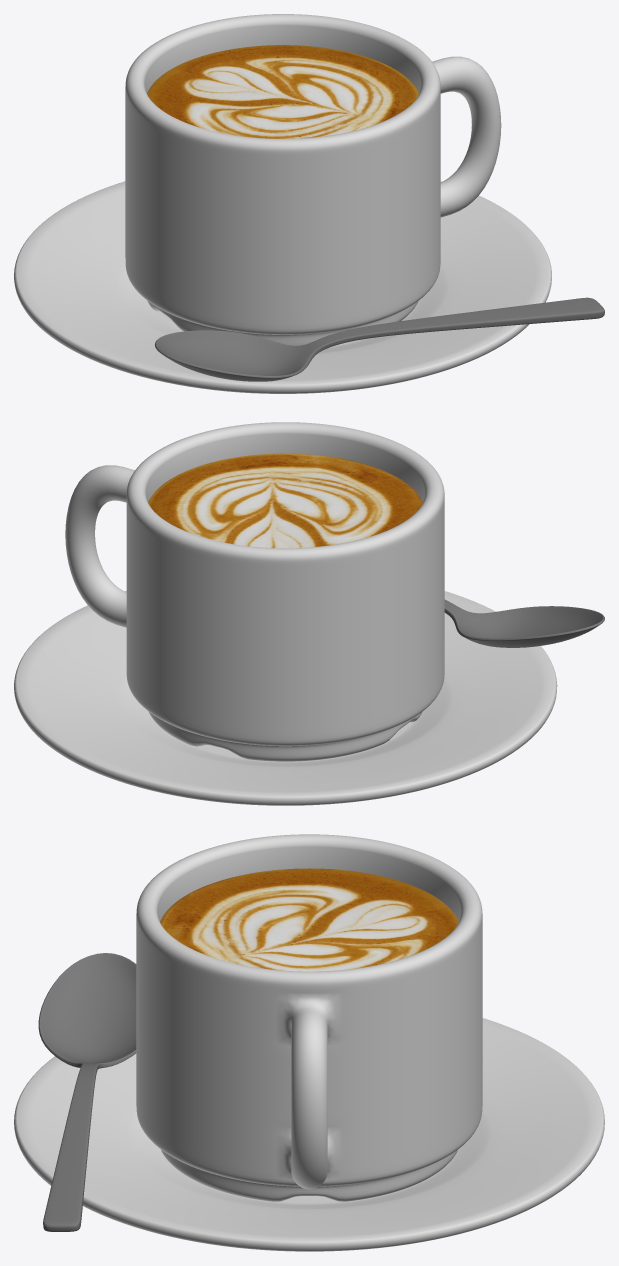
File: coffeecup.glb
The picture shows the model from 3 angles, top to bottom: view 1: azimuth 30°, elevation 25°; view 2: azimuth 150°, elevation 25°; view 3: azimuth 270°, elevation 25°; orthographic projection. The views are drawn at different scales.
Visible parts, largest first — view 1: cup_1, plate, spoon_1; view 2: cup_1, plate, spoon_1; view 3: cup_1, plate, spoon_1.
Boxes of the visible parts, x1=… form: cup_1: x1=125, y1=14, x2=501, y2=345; plate: x1=14, y1=181, x2=551, y2=393; spoon_1: x1=155, y1=297, x2=604, y2=381; cup_1: x1=65, y1=422, x2=444, y2=761; plate: x1=14, y1=591, x2=557, y2=805; spoon_1: x1=444, y1=599, x2=604, y2=647; cup_1: x1=136, y1=834, x2=482, y2=1201; plate: x1=14, y1=1018, x2=604, y2=1251; spoon_1: x1=38, y1=953, x2=136, y2=1231.
Bounding box in the file's own units: 2.59 × 1.21 × 2.59.
Materials: 3 (1 with a texture image).
